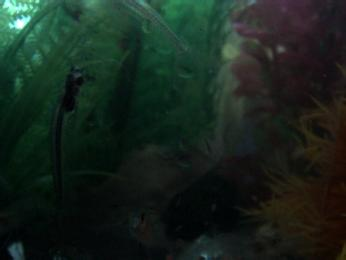X-ray fish: (125, 202, 170, 250)
glassfish: (44, 59, 94, 212), (97, 1, 196, 65)
siberian prawn: (175, 222, 292, 260)
